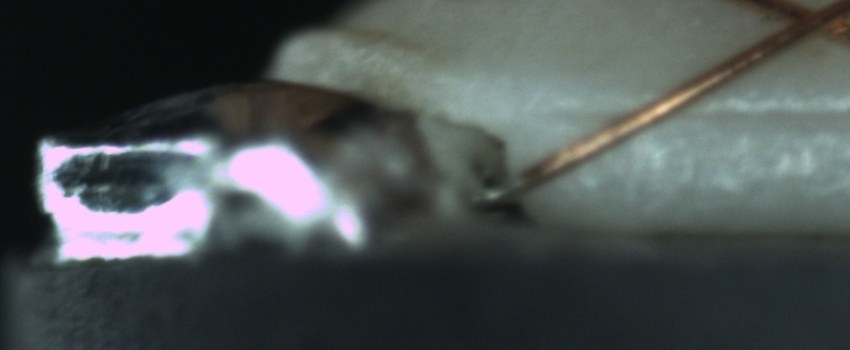CL: (767, 0, 843, 44)
DL: (553, 79, 846, 146)
TS: (482, 173, 523, 205)
